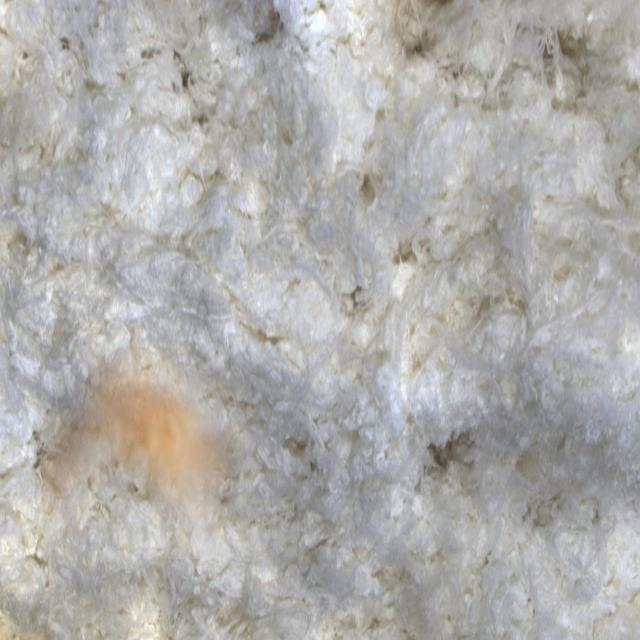dust: (35, 347, 255, 559)
